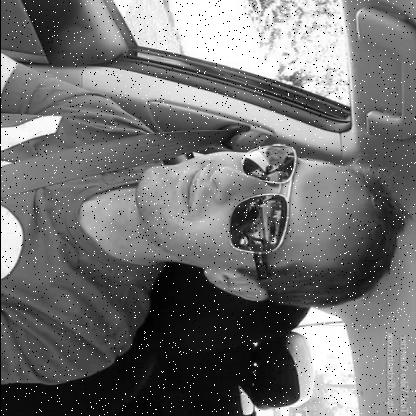seatbelt: (0, 122, 398, 318)
